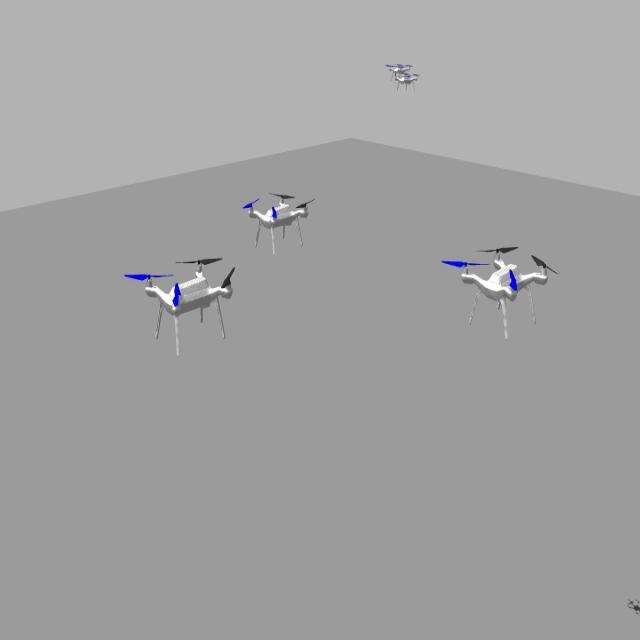Drone: (120, 244, 246, 354)
